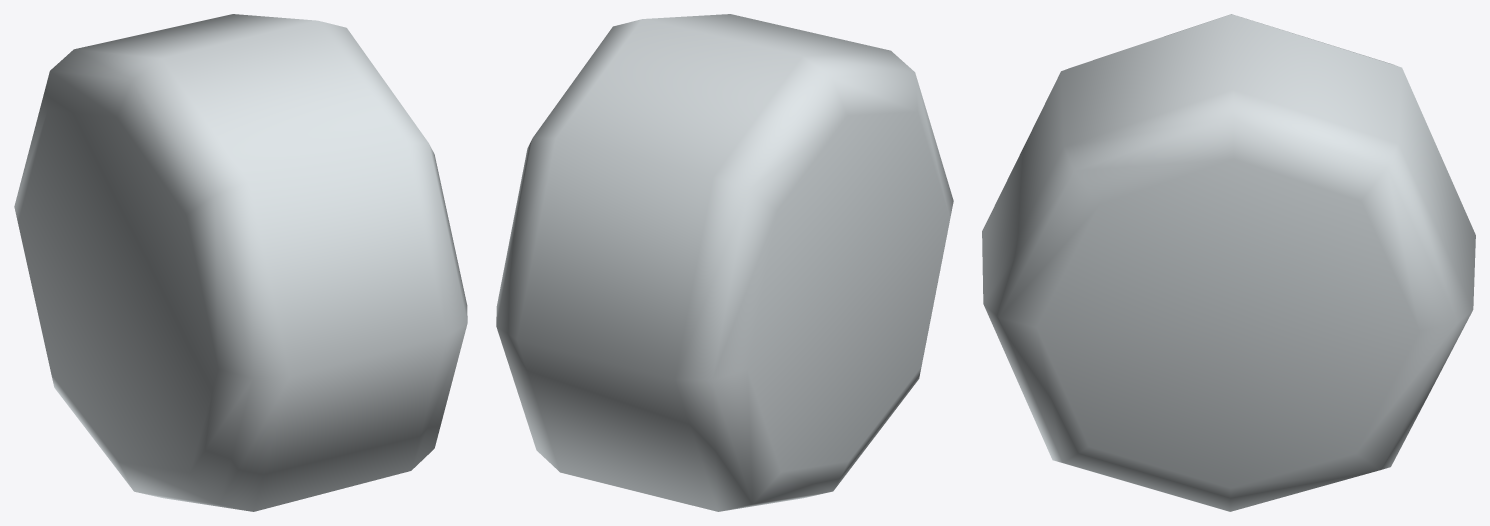
Rendered from Bracelet_3.fbx.
The picture shows the model from 3 angles, left to right: view 1: azimuth 30°, elevation 25°; view 2: azimuth 150°, elevation 25°; view 3: azimuth 270°, elevation 25°; orthographic projection. The views are drawn at different scales.
Visible parts, largest first — view 1: Bracelet_3; view 2: Bracelet_3; view 3: Bracelet_3.
Boxes of the visible parts, x1,y1,x2,y2 form: Bracelet_3: (14, 14, 467, 511); Bracelet_3: (496, 14, 953, 511); Bracelet_3: (982, 14, 1475, 511).
Size of the model in its own units: 7.91 by 13.26 by 13.96.
